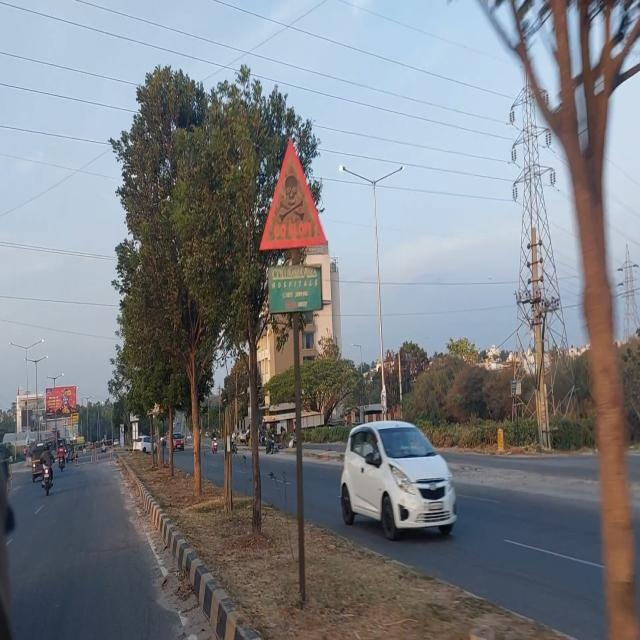bien_nguy_hiem: (259, 139, 328, 251)
